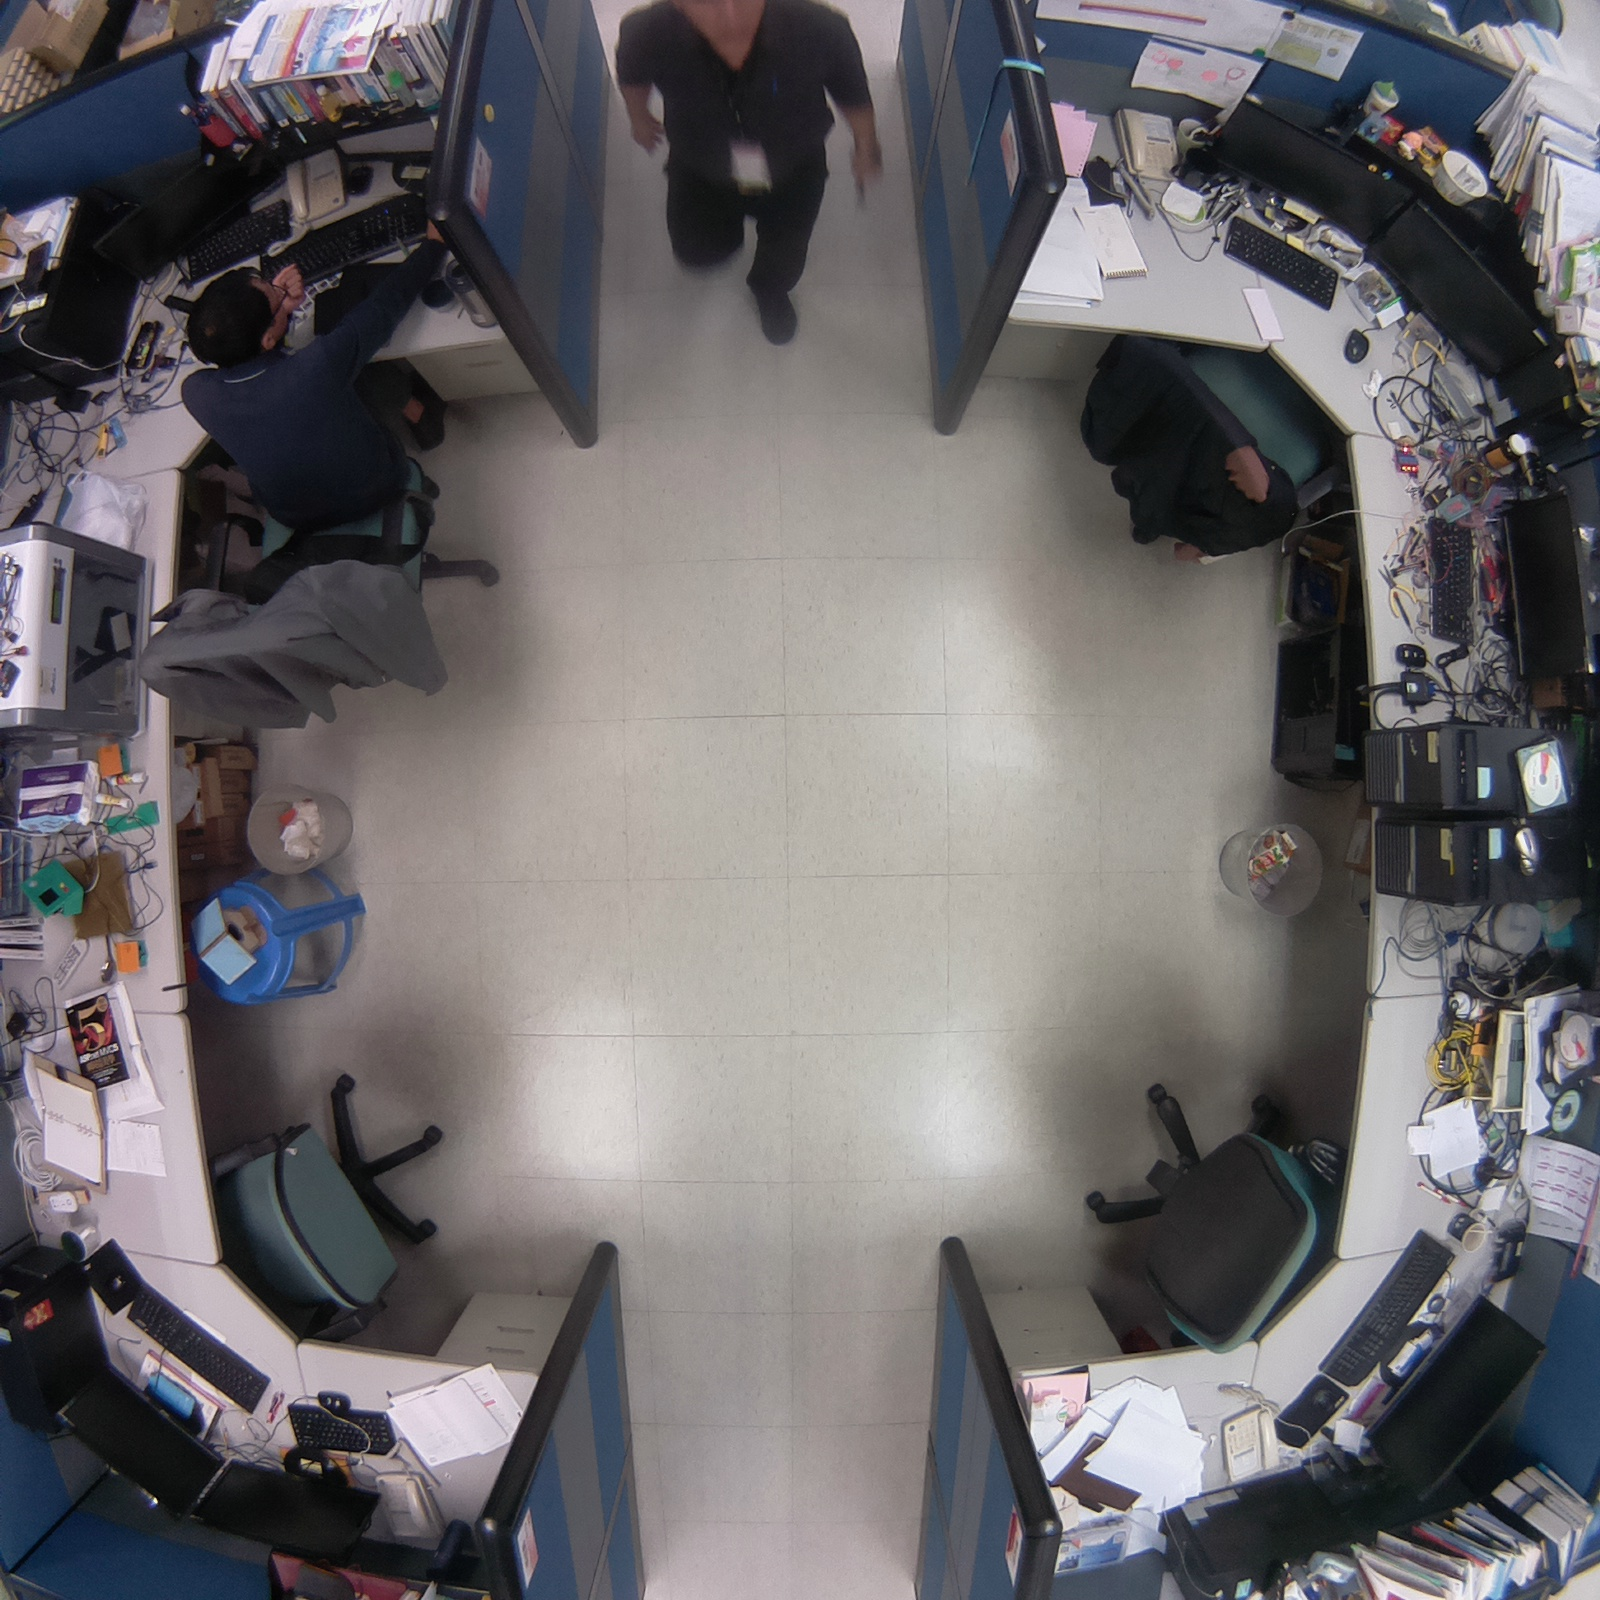chair: (1062, 1062, 1363, 1368), (188, 1059, 459, 1347)
sitting: (117, 193, 513, 744)
walking: (590, 1, 905, 371)
